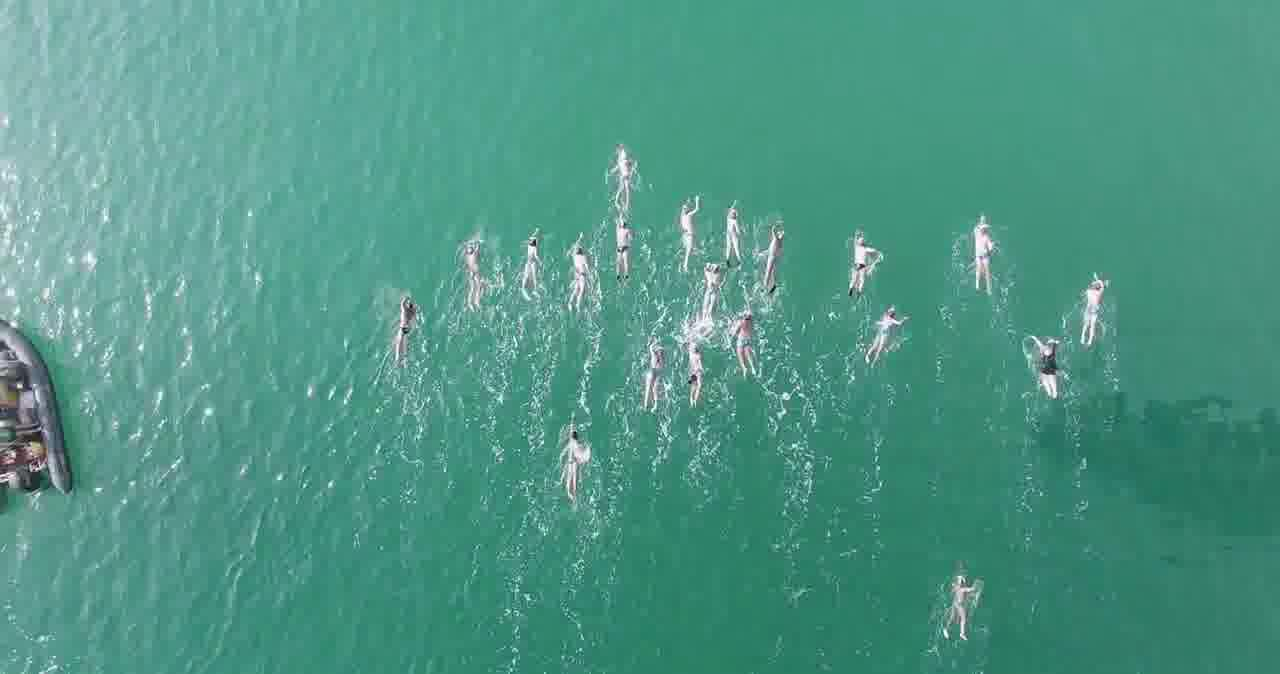human: (942, 566, 989, 650), (1030, 336, 1062, 404), (870, 310, 905, 371), (973, 219, 999, 299), (1080, 274, 1106, 349), (758, 224, 785, 288), (676, 196, 698, 274), (393, 297, 418, 364), (613, 213, 637, 282), (568, 240, 587, 314), (853, 234, 877, 292), (564, 430, 586, 493), (462, 246, 480, 320), (722, 206, 743, 265), (732, 314, 752, 374), (519, 234, 538, 292), (646, 339, 660, 407), (683, 340, 698, 400), (703, 260, 720, 311)
